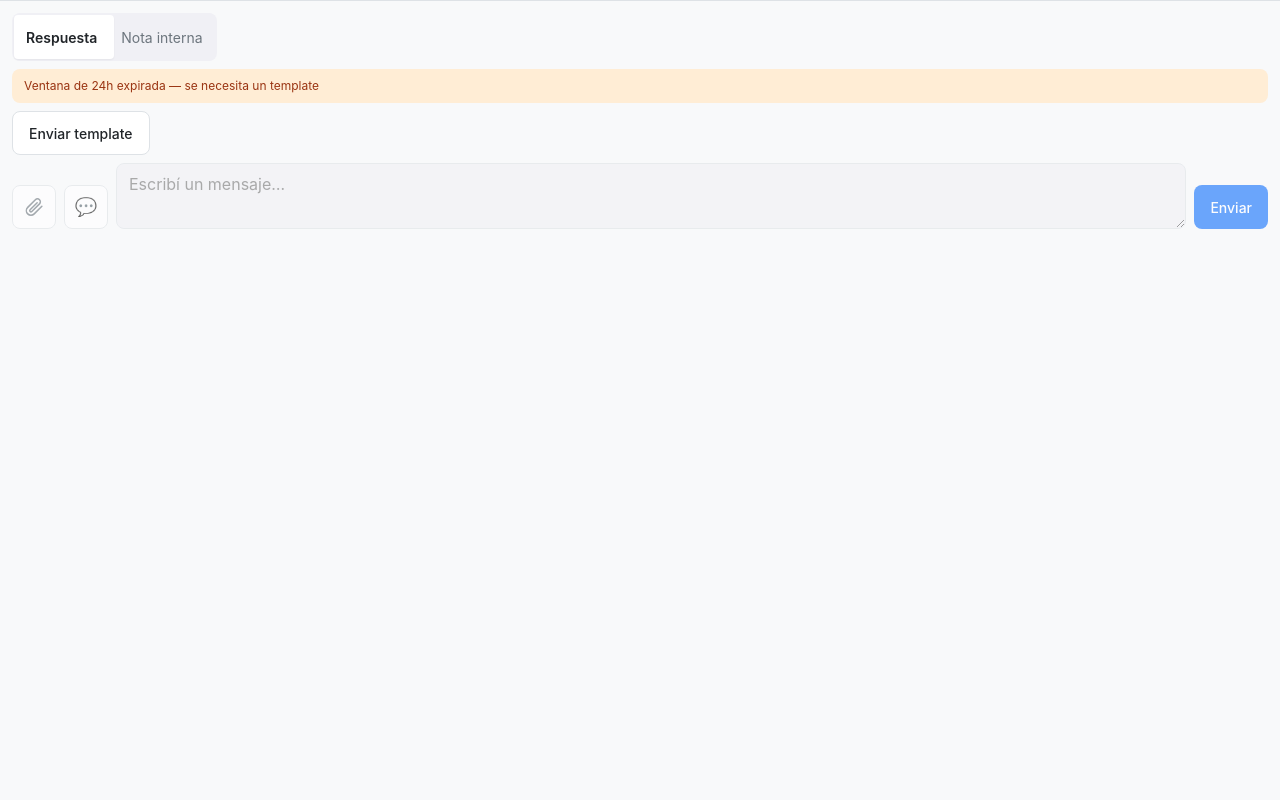
Test case: CTA-2: click abre el panel; Esc/Cancelar lo cierran › "Cancelar" dentro del panel lo cierra sin tocar el estado del composer
Step 1. Click the button "Enviar template" → click(81, 133), box [12,111,150,155]
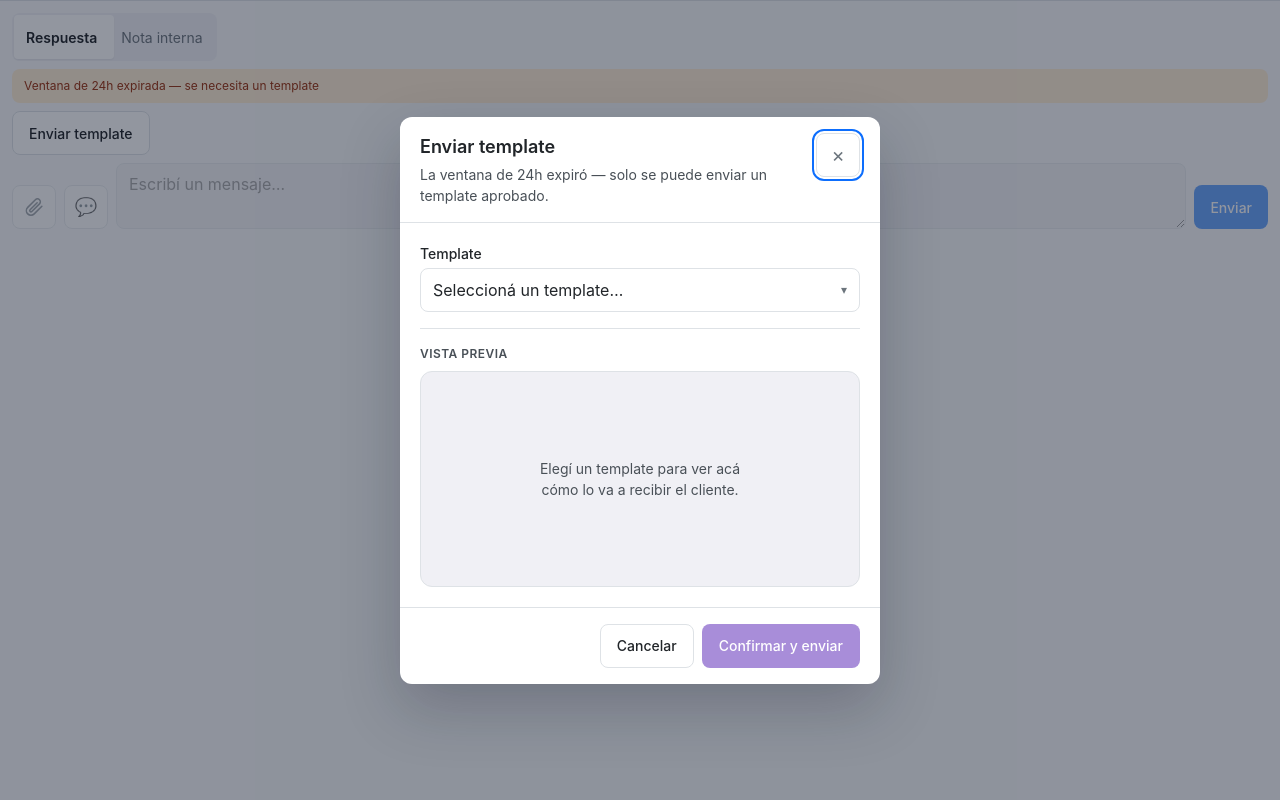
Step 2. Click the button "Cancelar" → click(647, 646), box [600,624,694,668]
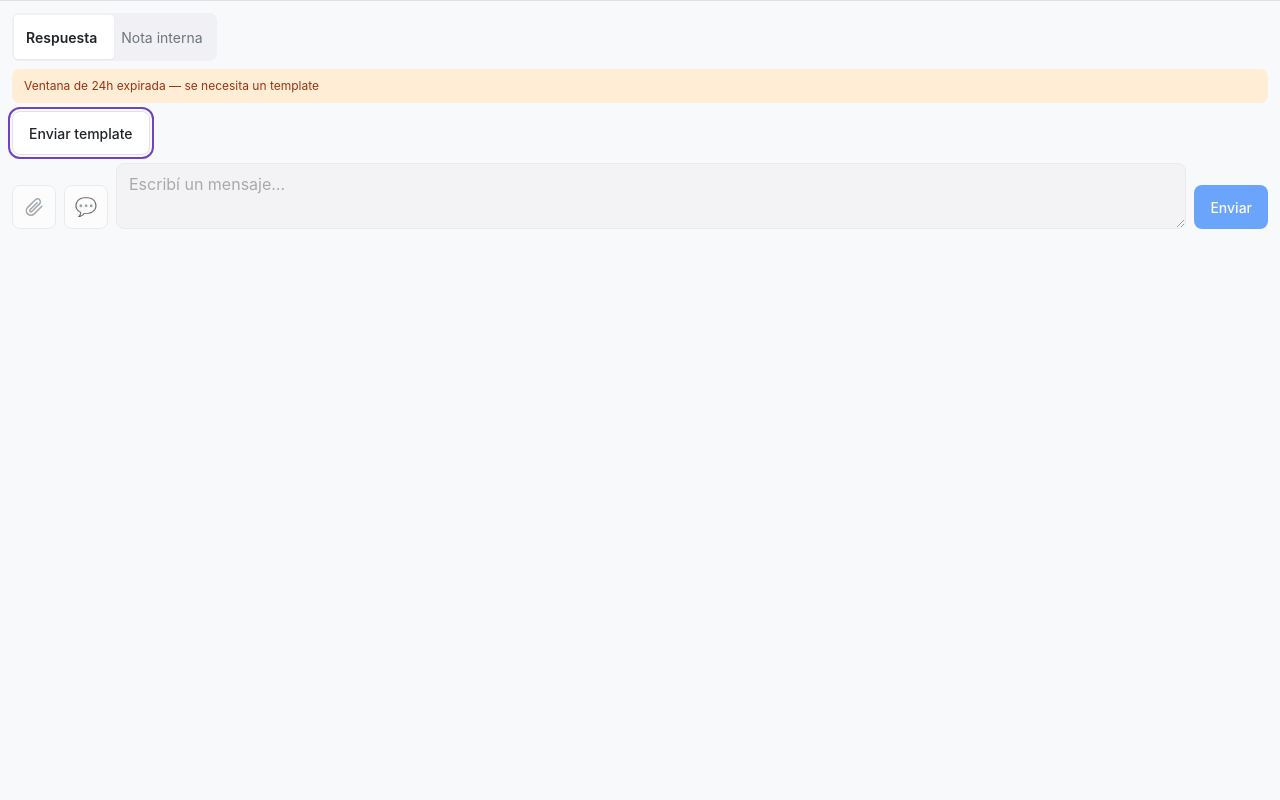
Expected: the button "Enviar template" is shown, [12,111,150,155]
Expected: the dialog is gone
